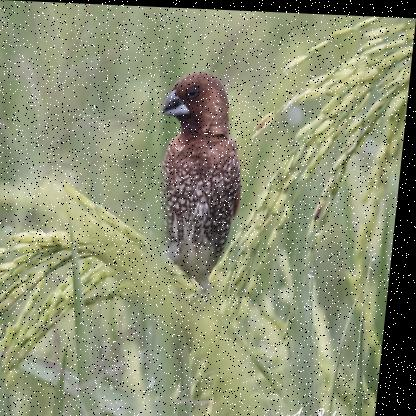Burung: (144, 70, 253, 358)
